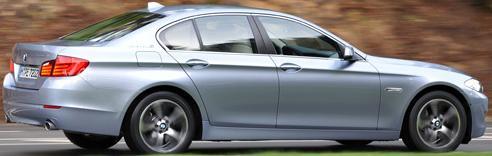back_view: (1, 38, 92, 138)
backlight: (36, 54, 92, 79)
side_glass: (164, 14, 347, 64)
